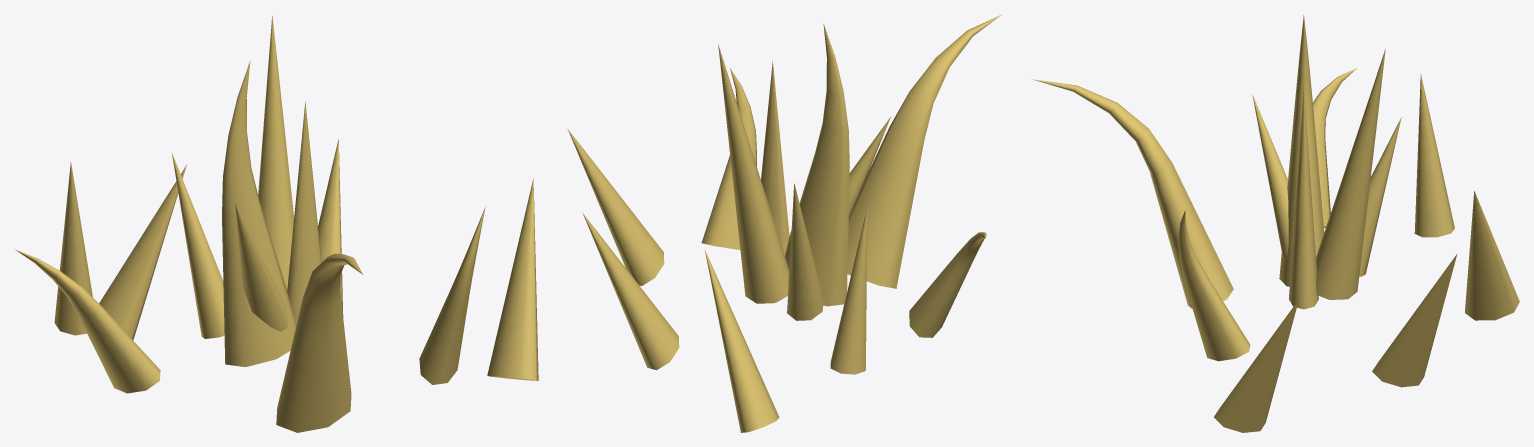
The model's file is atoll_grassCluster_Dry.fbx.
3 views of the same model, side by side, from view 1: azimuth 30°, elevation 25°; view 2: azimuth 150°, elevation 25°; view 3: azimuth 270°, elevation 25° (orthographic). The views are drawn at different scales.
Parts seen in each view (by area): view 1: pCone16, pCone19, pCone25, pCone18, pCone26, pCone27, pCone21, pCone17, pCone23, pCone22, pCone24, pCone20; view 2: pCone19, pCone16, pCone18, pCone27, pCone20, pCone25, pCone22, pCone26, pCone23, pCone21, pCone17, pCone24; view 3: pCone18, pCone19, pCone21, pCone27, pCone25, pCone20, pCone16, pCone17, pCone22, pCone24, pCone23, pCone26.
Boxes of the visible parts, left/top/right/bottom form: pCone16: left=222, top=61, right=295, bottom=366; pCone19: left=276, top=253, right=363, bottom=432; pCone25: left=487, top=178, right=538, bottom=380; pCone18: left=258, top=15, right=294, bottom=290; pCone26: left=15, top=249, right=160, bottom=393; pCone27: left=99, top=165, right=186, bottom=339; pCone21: left=419, top=206, right=485, bottom=384; pCone17: left=287, top=101, right=321, bottom=327; pCone23: left=171, top=152, right=224, bottom=338; pCone22: left=54, top=162, right=92, bottom=335; pCone24: left=235, top=204, right=288, bottom=331; pCone20: left=318, top=139, right=343, bottom=317; pCone19: left=847, top=14, right=1001, bottom=288; pCone16: left=785, top=24, right=849, bottom=306; pCone18: left=718, top=44, right=789, bottom=303; pCone27: left=704, top=249, right=779, bottom=432; pCone20: left=582, top=212, right=679, bottom=370; pCone25: left=567, top=128, right=664, bottom=285; pCone22: left=830, top=206, right=867, bottom=374; pCone26: left=909, top=232, right=986, bottom=337; pCone23: left=787, top=183, right=823, bottom=320; pCone21: left=701, top=68, right=756, bottom=249; pCone17: left=761, top=60, right=789, bottom=255; pCone24: left=848, top=117, right=890, bottom=219; pCone18: left=1316, top=49, right=1385, bottom=299; pCone19: left=1032, top=79, right=1233, bottom=308; pCone21: left=1178, top=210, right=1250, bottom=361; pCone27: left=1465, top=191, right=1519, bottom=320; pCone25: left=1214, top=299, right=1298, bottom=432; pCone20: left=1372, top=254, right=1457, bottom=387; pCone16: left=1279, top=15, right=1324, bottom=286; pCone17: left=1289, top=87, right=1318, bottom=309; pCone22: left=1414, top=73, right=1454, bottom=237; pCone24: left=1252, top=94, right=1288, bottom=260; pCone23: left=1359, top=117, right=1401, bottom=276; pCone26: left=1313, top=68, right=1356, bottom=228.
Bounding box in the file's own units: 5.88 × 4.13 × 5.77.
